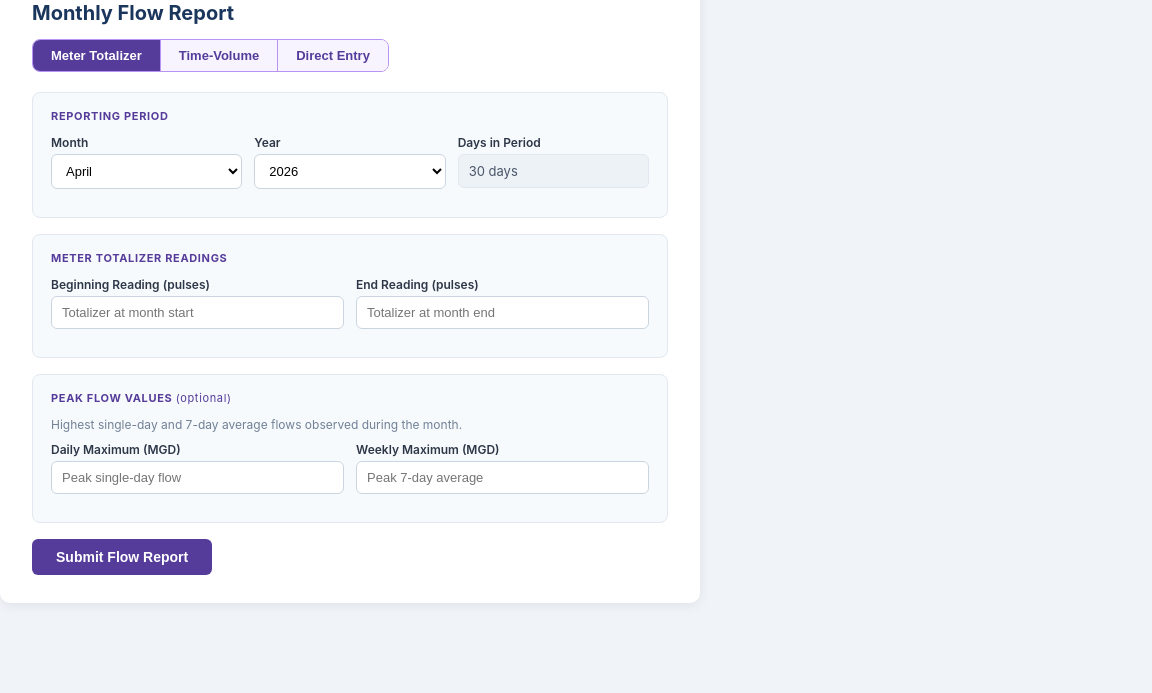
Test: MonthlyFlowForm — meter live calculation › submit button is enabled when end > beginning
Type "0" into the number field with placeholder "Totalizer at month start".
click(198, 312); type("0")  # box [51,296,344,329]
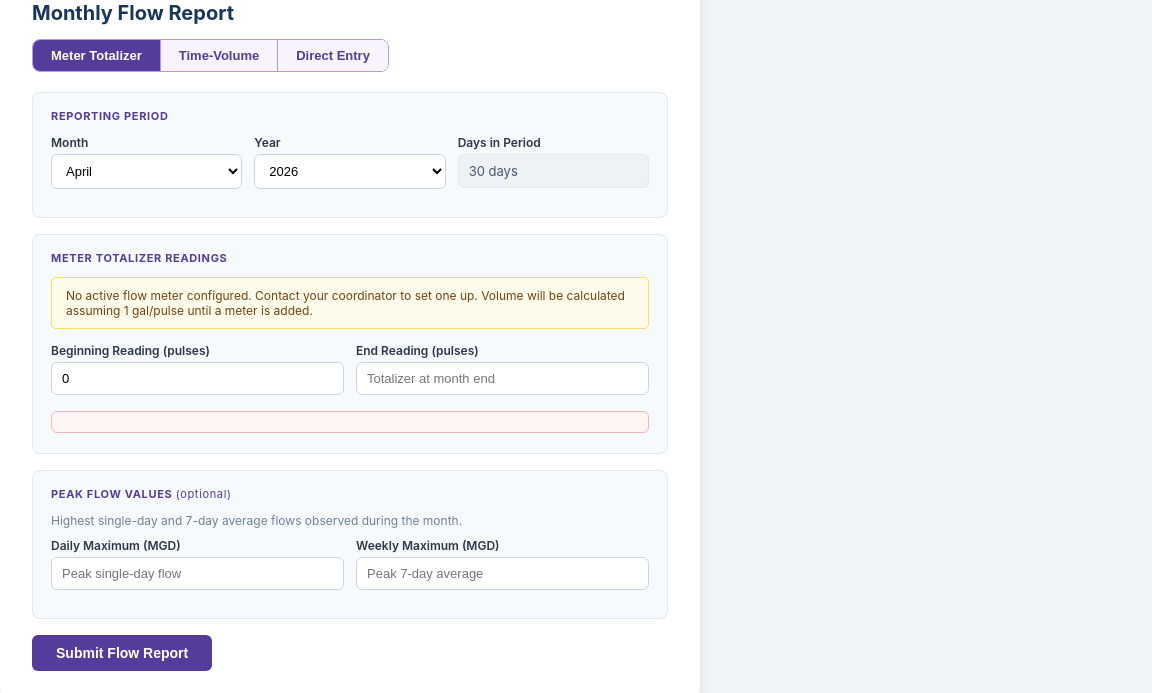
Type "1000000" into the number field with placeholder "Totalizer at month end".
click(502, 378); type("1000000")  # box [356,362,649,395]
(page scrolled)
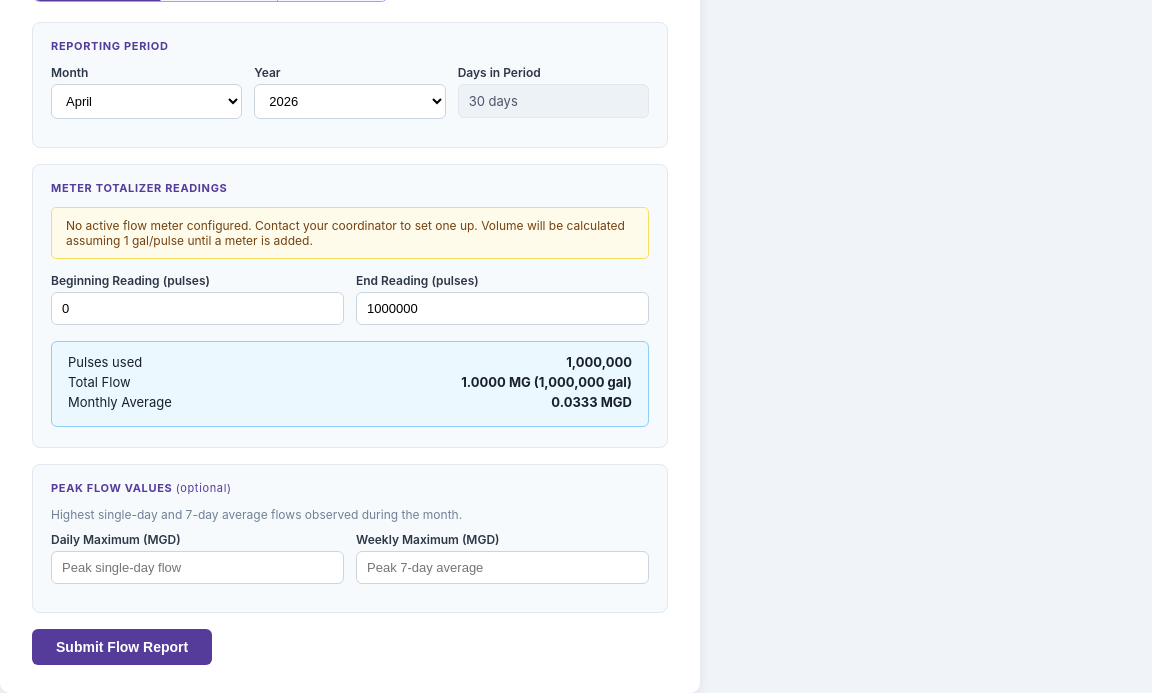
expect the button "Submit Flow Report" is enabled: met, box [32,629,212,665]
